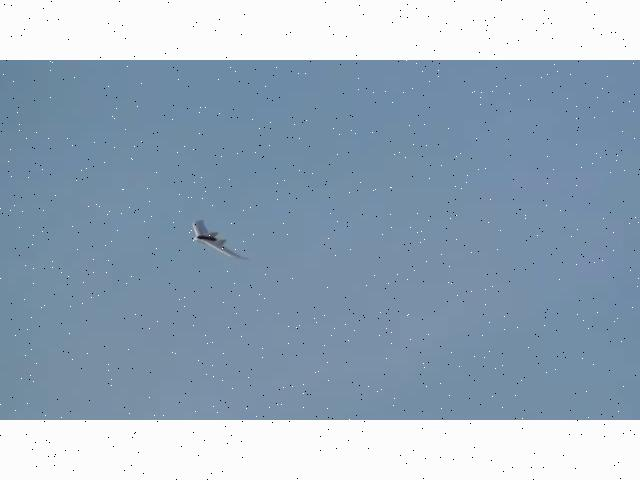Anti-Drone: (192, 220, 248, 259)
